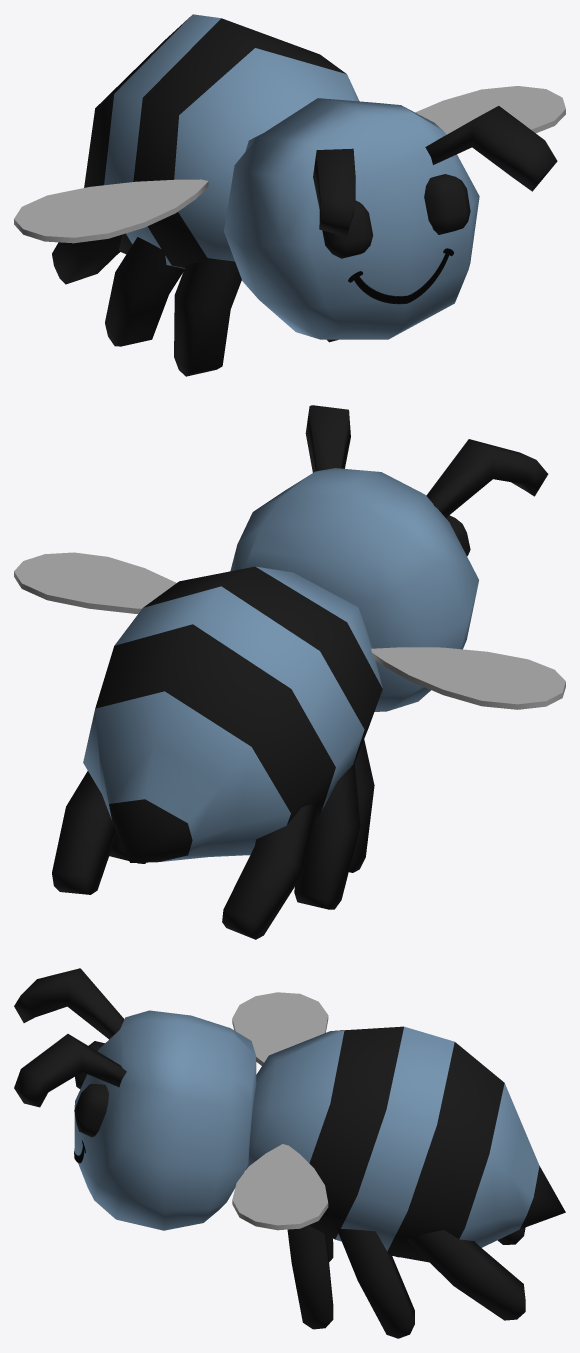
The model's file is Bee_2.fbx.
3 renders of one model, top to bottom at view 1: azimuth 30°, elevation 25°; view 2: azimuth 150°, elevation 25°; view 3: azimuth 270°, elevation 25°, orthographic. The views are drawn at different scales.
Parts seen in each view (by area): view 1: Body, Wing_L, Wing_R; view 2: Body, Wing_L, Wing_R; view 3: Body, Wing_R, Wing_L.
Boxes of the visible parts, left/top/right/bottom form: Body: left=52, top=14, right=557, bottom=376; Wing_L: left=14, top=179, right=208, bottom=243; Wing_R: left=415, top=86, right=565, bottom=134; Body: left=52, top=405, right=548, bottom=939; Wing_L: left=371, top=647, right=565, bottom=709; Wing_R: left=14, top=552, right=176, bottom=613; Body: left=14, top=968, right=565, bottom=1338; Wing_R: left=232, top=1144, right=328, bottom=1230; Wing_L: left=232, top=992, right=328, bottom=1065.
Size of the model in its own units: 124 by 71.09 by 124.
Materials: 4 (1 with a texture image).
